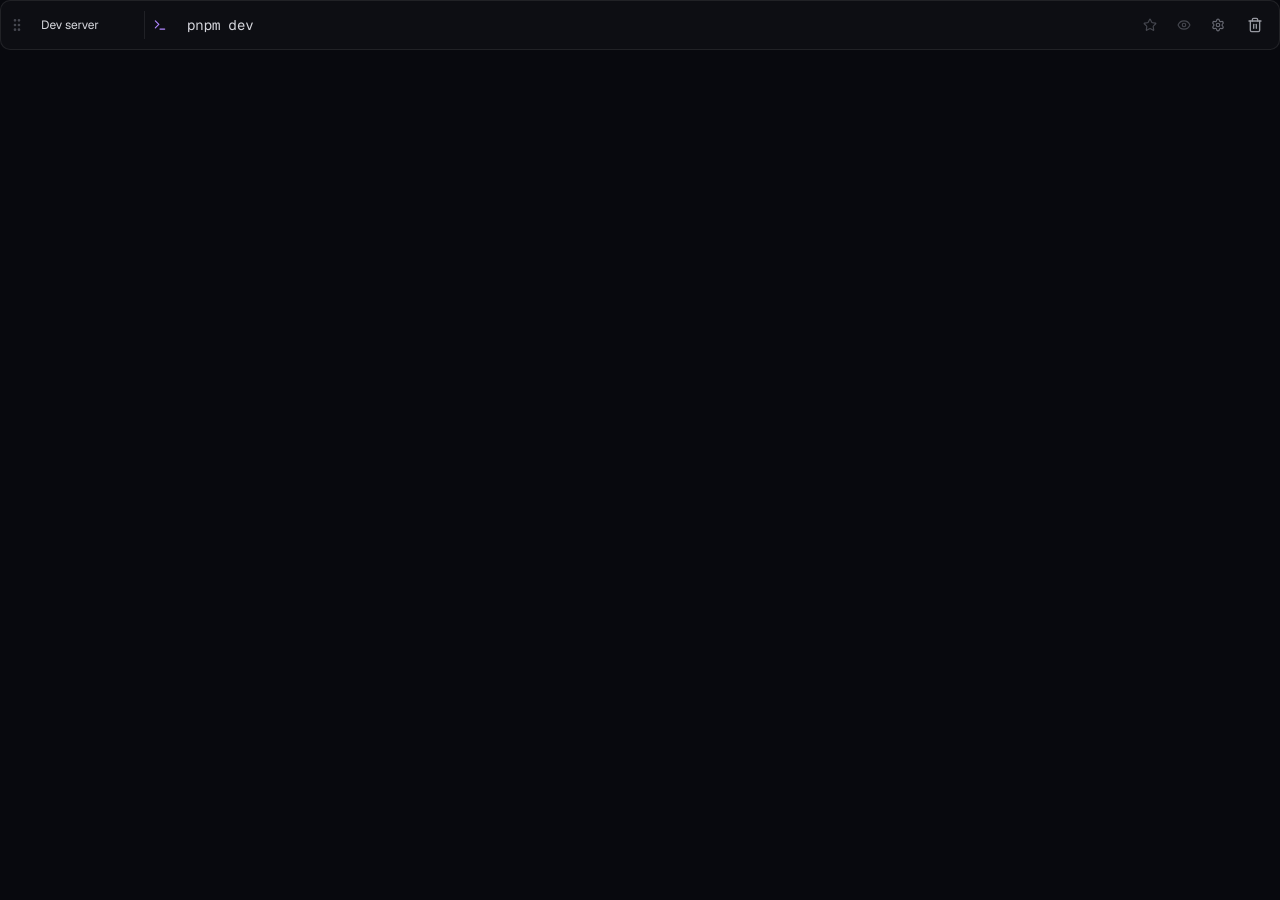
it: CommandRow delete confirmation › does not delete when the dialog is cancelled
Click the button titled "Delete command" at (1255, 25), box [1239,9,1271,41]
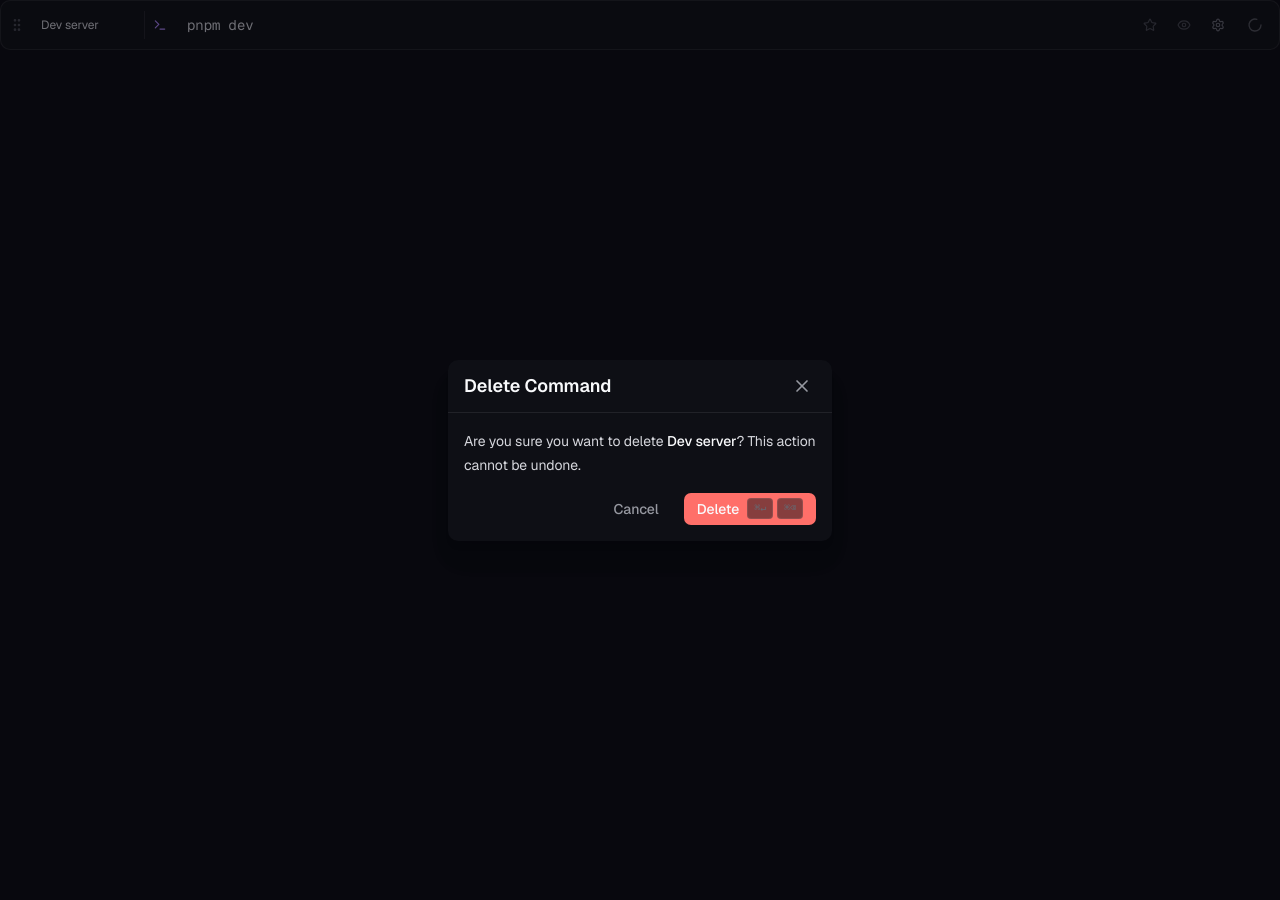
Click the button "Cancel" at (636, 508), box [600,492,672,524]
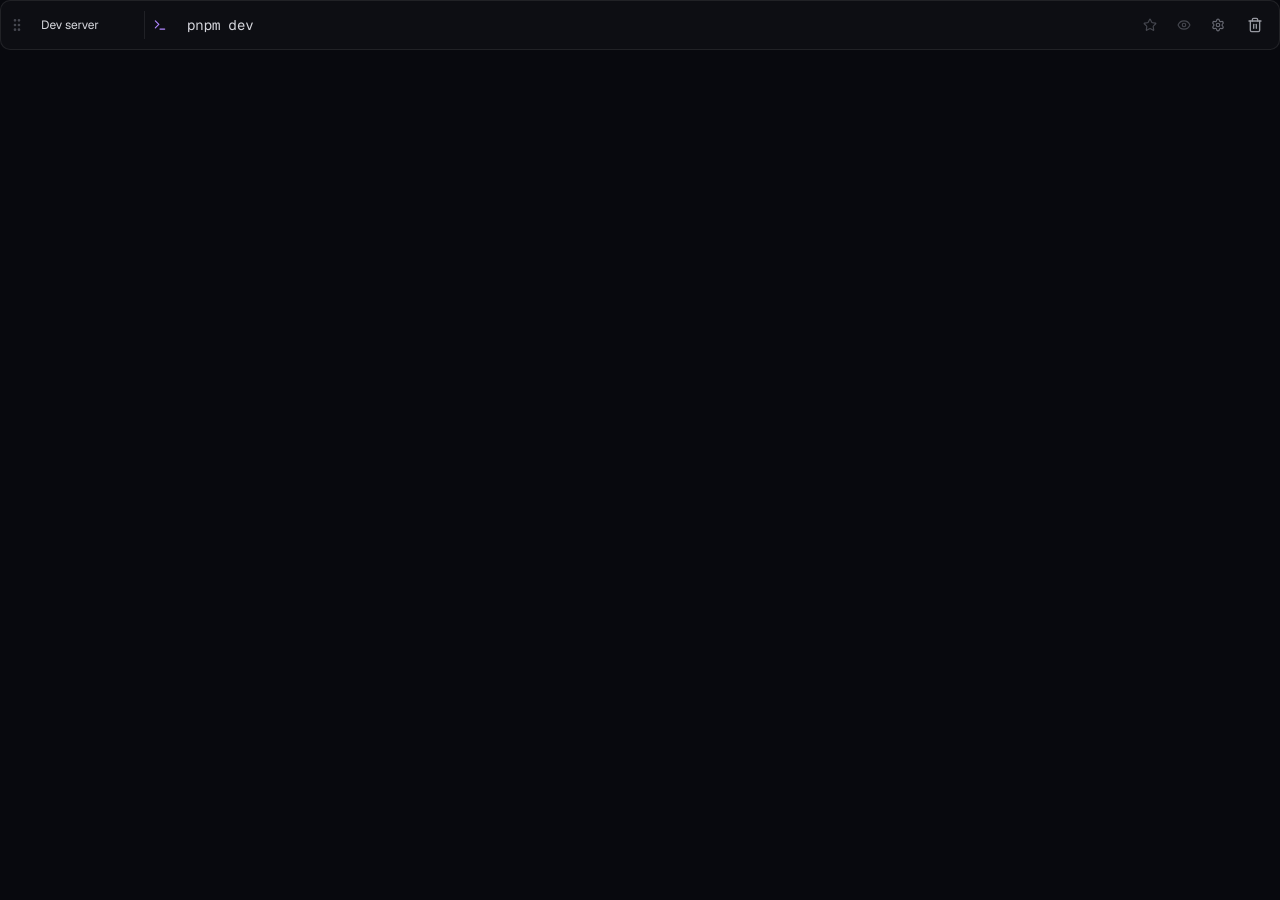
Result: the text "Are you sure you want to delete" is gone
